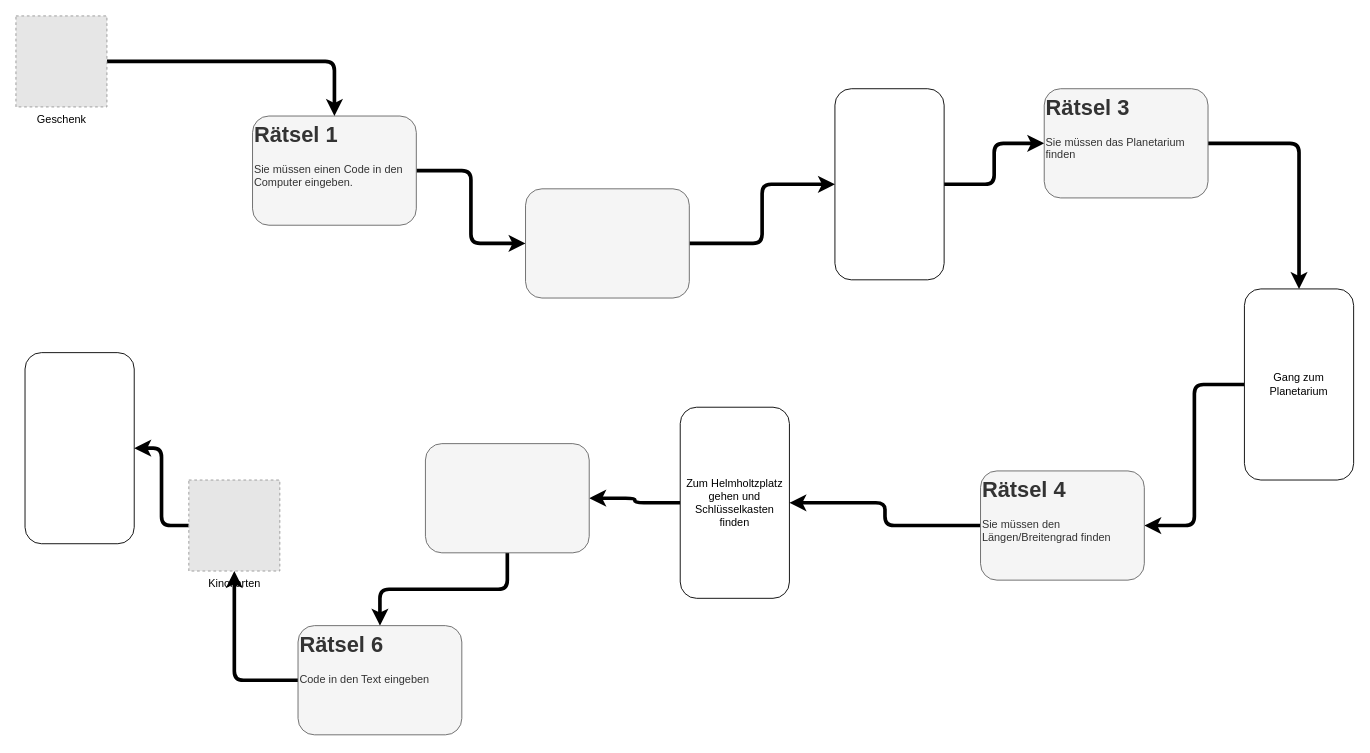
Some shapes in this 1370 by 753 pixel diagram are drawn without their labels. Grey dashed boxes stand in for pictures. The centre of each missing label's shape, as x and y in pixels:
"Rätsel 2 Sie müssen Lindenalle finden" belongs at pixel 607 243.
"Rätsel 5 Code eingeben 0911" belongs at pixel 507 498.
"Zum Kino gehen" belongs at pixel 79 448.
"Zum Lindenmarkt gehen" belongs at pixel 889 184.
